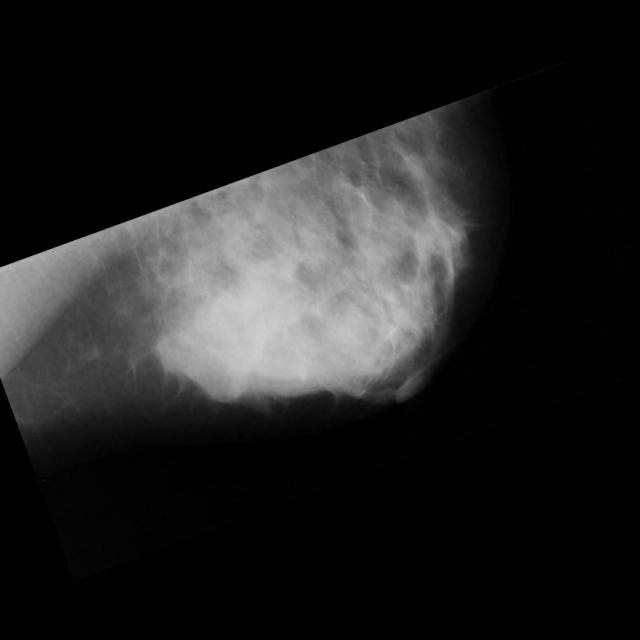CALC: (208, 203, 220, 215)
